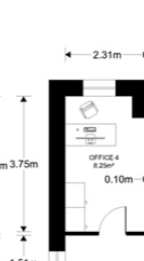door: (92, 199, 135, 244)
window: (74, 72, 122, 103)
